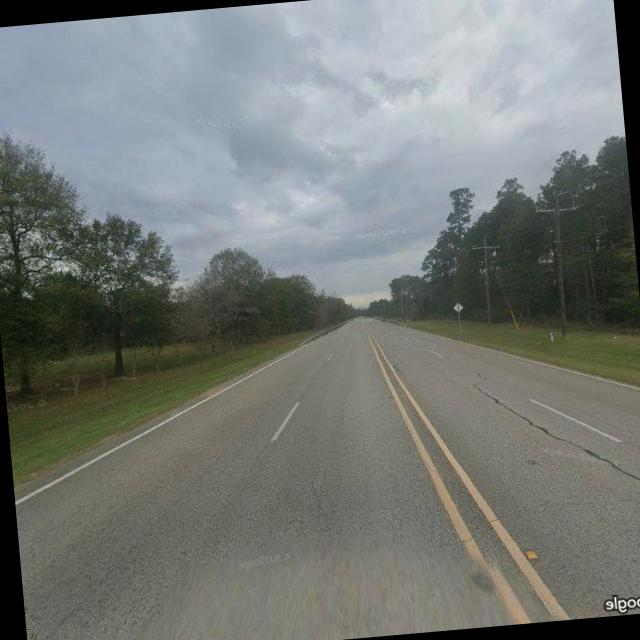crack: (431, 481, 640, 551), (305, 467, 333, 533)
